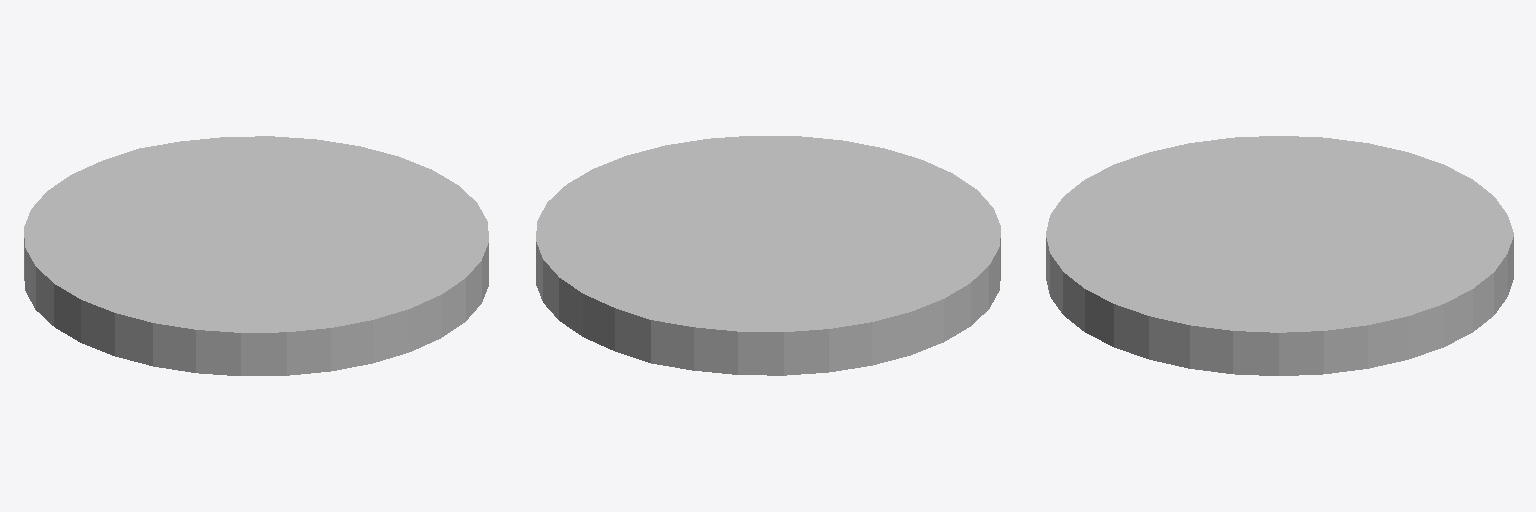
The model's file is Irobot.obj.
3 views of the same model, side by side, from view 1: azimuth 30°, elevation 25°; view 2: azimuth 150°, elevation 25°; view 3: azimuth 270°, elevation 25° (orthographic).
Visible parts, largest first — view 1: Cylinder; view 2: Cylinder; view 3: Cylinder.
Boxes of the visible parts, box(x1,y1,x2,y2) form: Cylinder: box(24, 136, 488, 375); Cylinder: box(536, 136, 1000, 375); Cylinder: box(1046, 136, 1513, 375).
Bounding box in the file's own units: 1 × 0.1028 × 1.